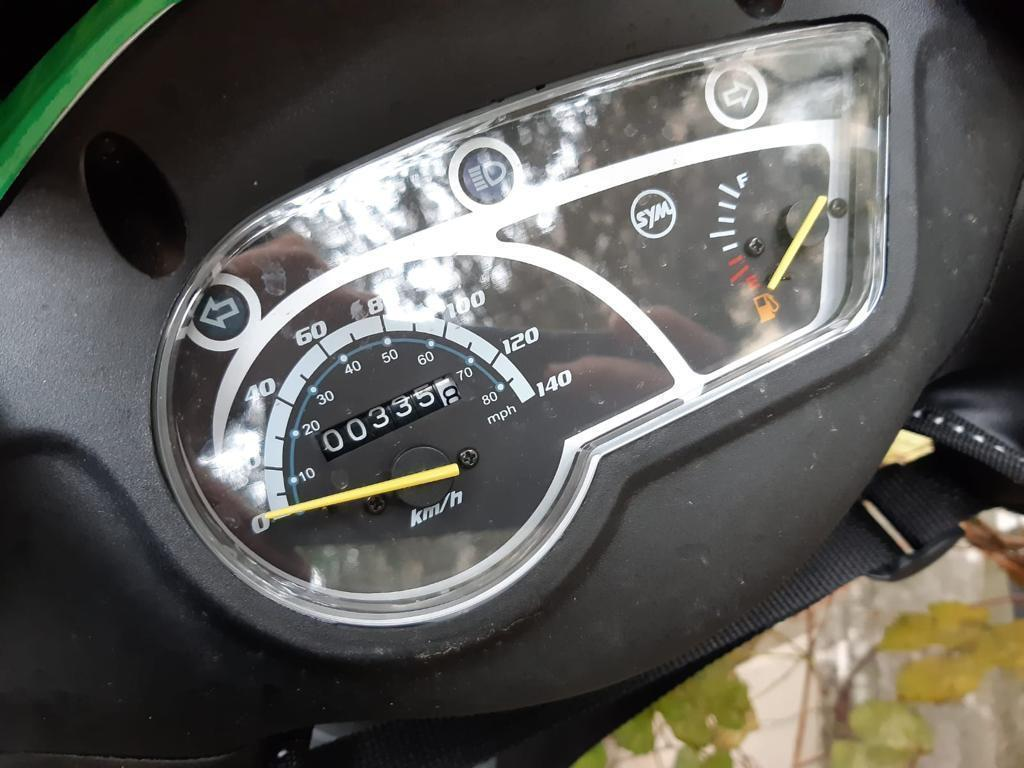0: (344, 416, 368, 441), (321, 429, 344, 452), (323, 389, 335, 401), (310, 418, 320, 431), (464, 367, 473, 378)
3: (367, 405, 389, 428), (391, 395, 414, 417), (316, 392, 326, 406)
5: (412, 383, 435, 406)
7: (454, 368, 465, 382)
8: (440, 385, 462, 405)
odometer: (309, 371, 475, 462)
